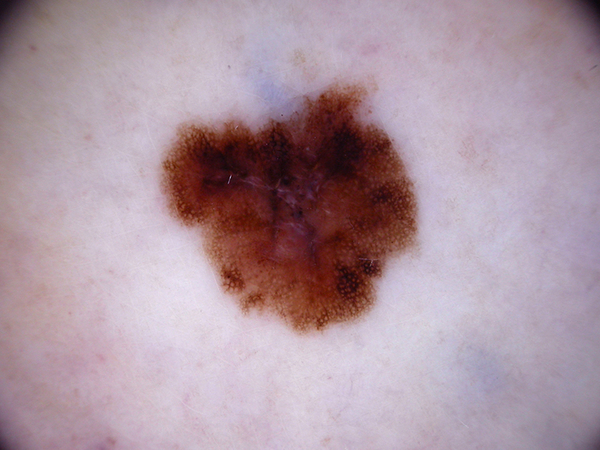Detected Lesion: (160, 77, 425, 334)
